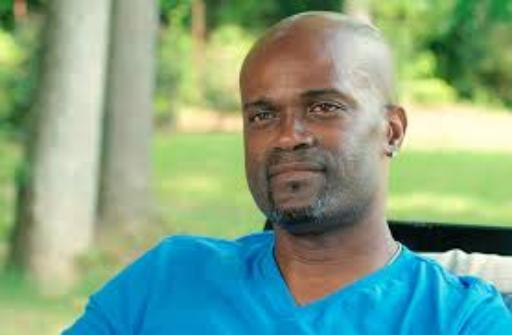left_eye: (310, 102, 349, 117)
left_lip_corner: (314, 167, 332, 179)
right_eye: (250, 112, 281, 125)
right_lip_corner: (268, 172, 276, 179)
